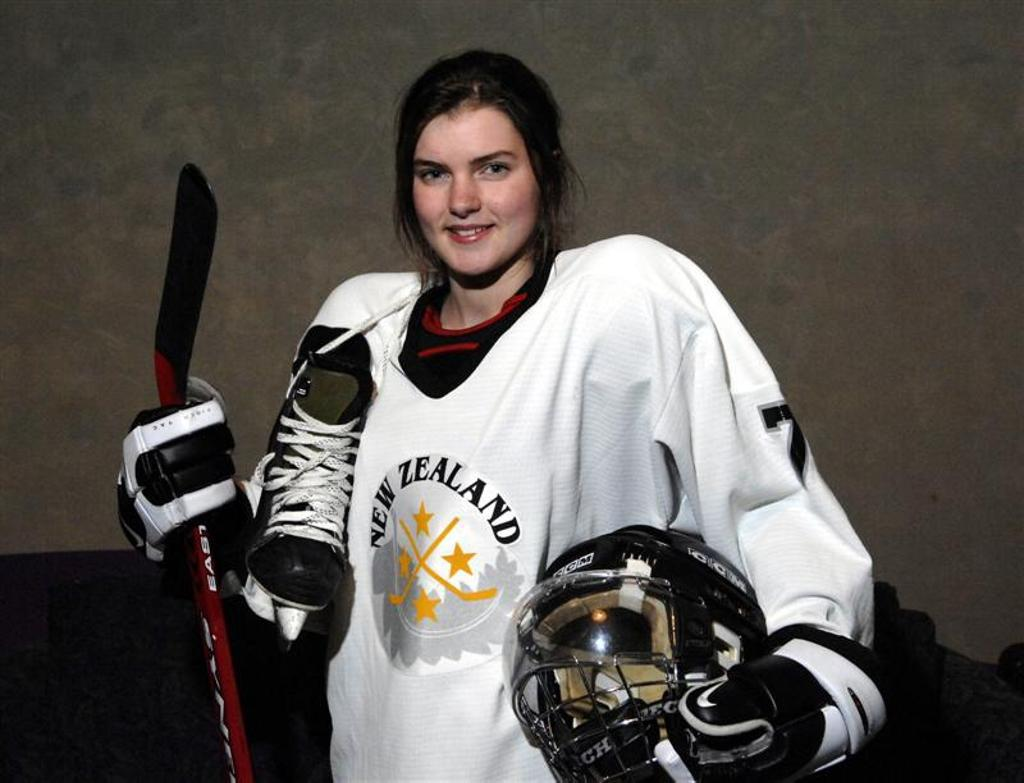face: (413, 111, 543, 279)
